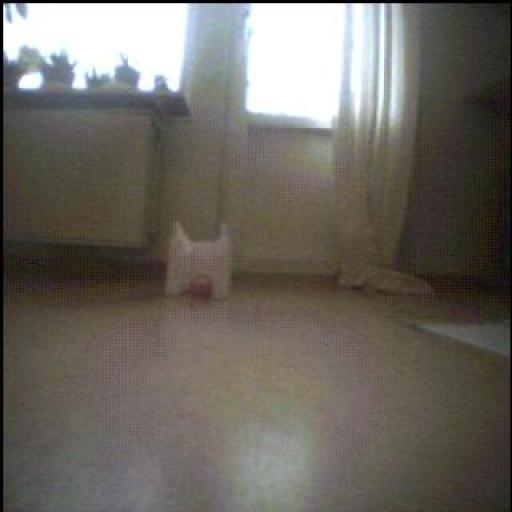Basket: (190, 275, 214, 299)
